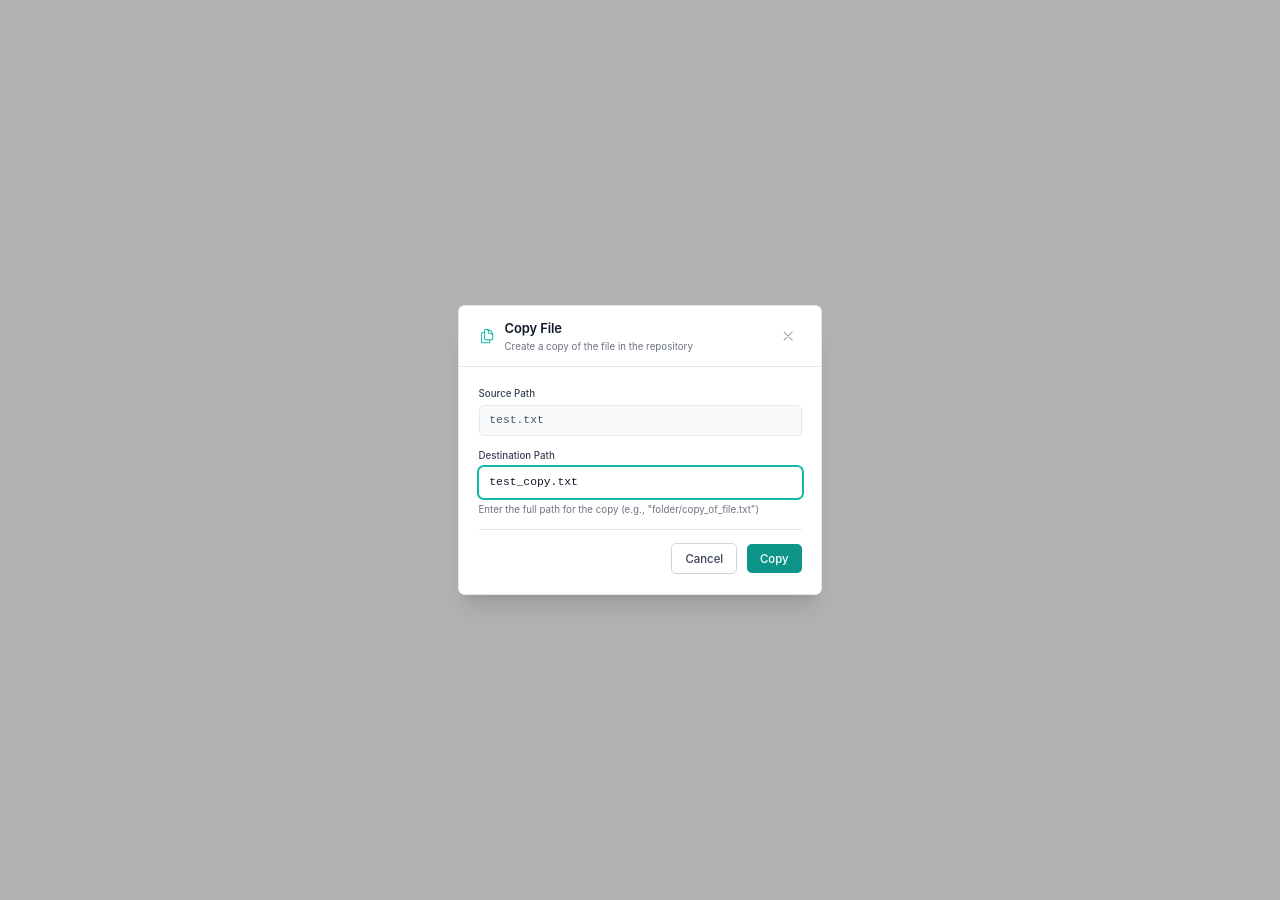
Test: CopyFileModal › validates empty destination
Clear the field with placeholder "Enter destination path" at (640, 483), box 478,467 -> 802,498
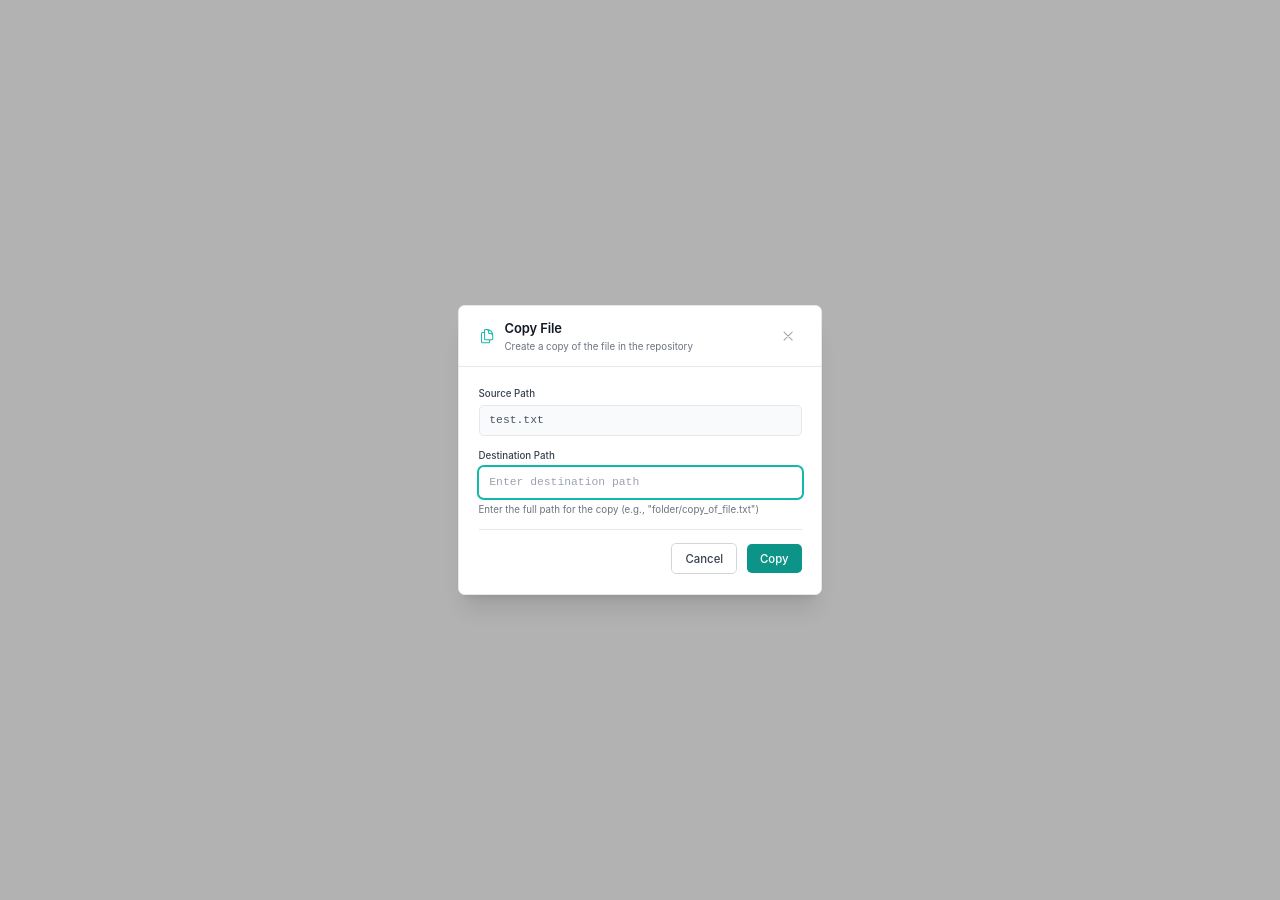
Click the button "Copy" at (774, 559), box 747,544 -> 802,573
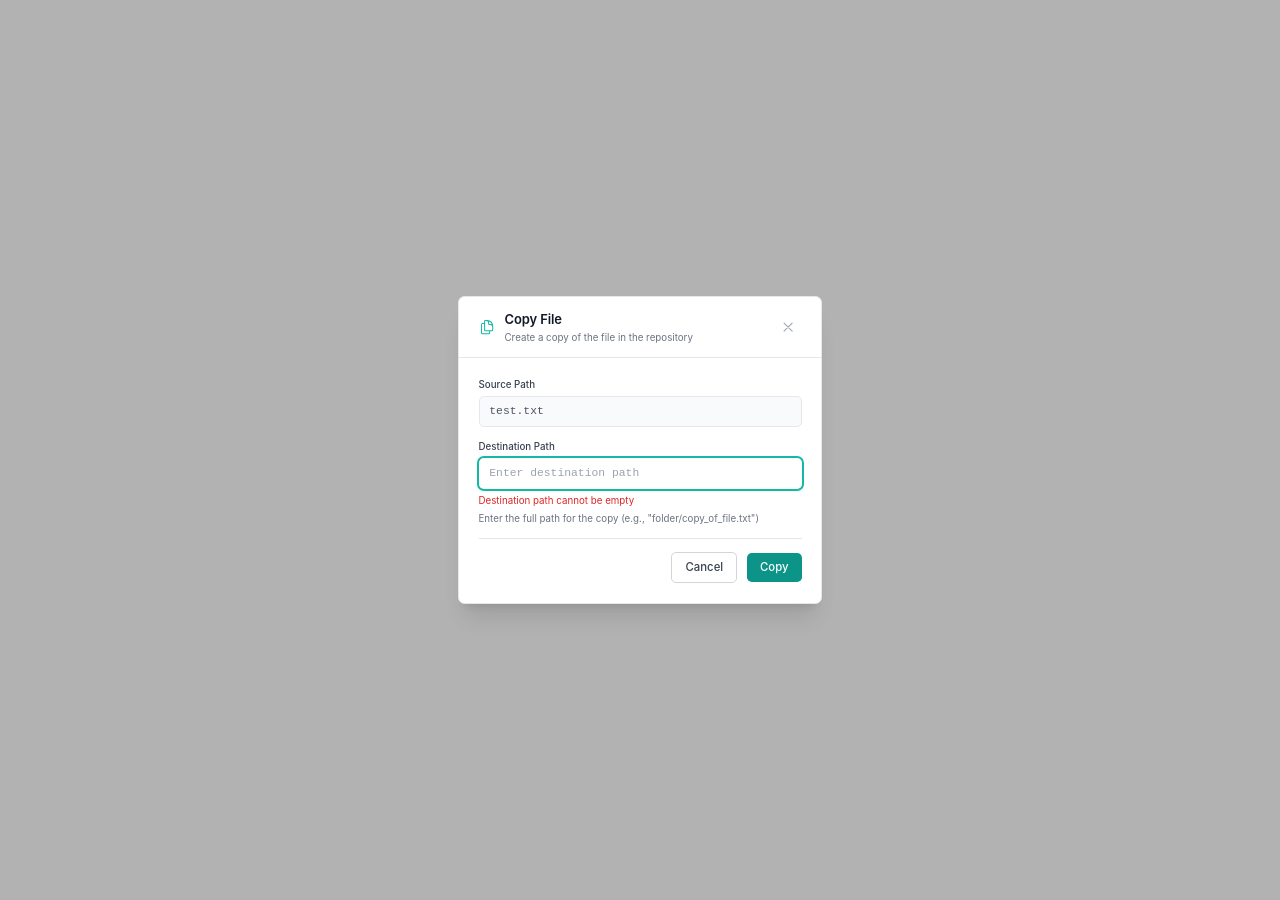
Expected: the text "Destination path cannot be empty" is shown, 478,495 -> 634,506
